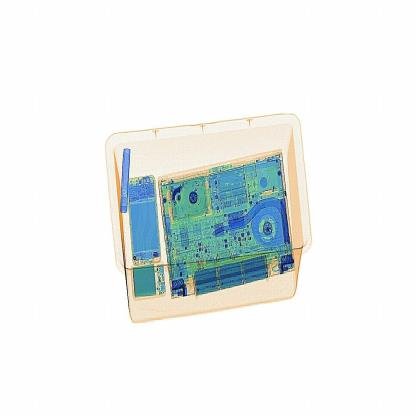pliers: (116, 144, 132, 214)
